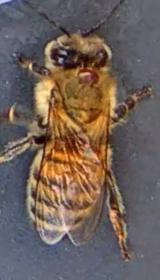varroa_mite: (72, 63, 101, 88)
